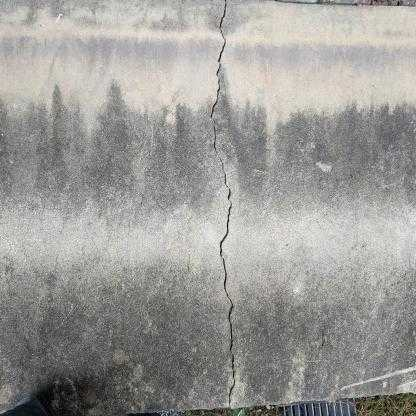crack: (209, 0, 236, 408)
